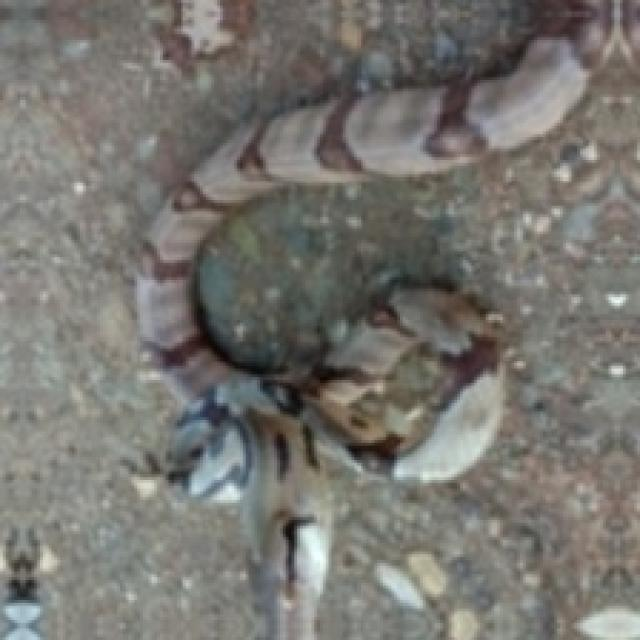dog-toothed cat snake: (138, 0, 639, 639)
